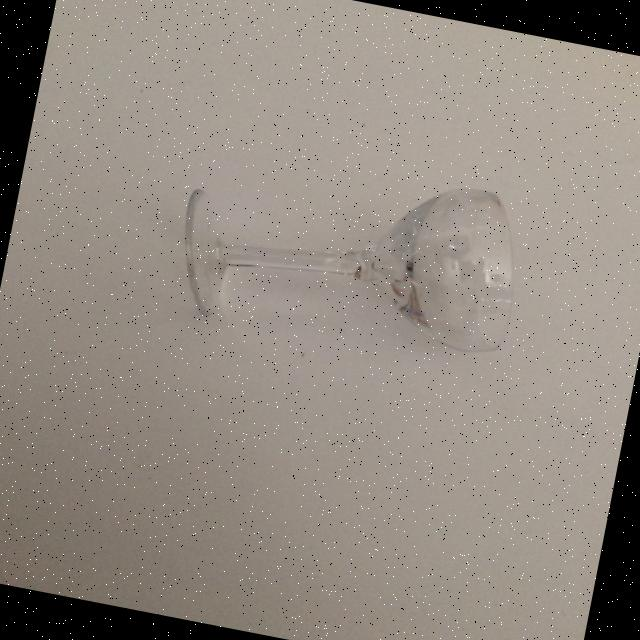glass: (166, 133, 534, 374)
